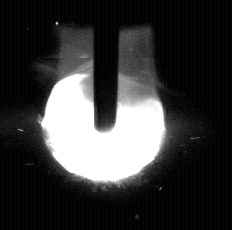arame: (95, 0, 119, 132)
poca: (40, 0, 167, 230)
